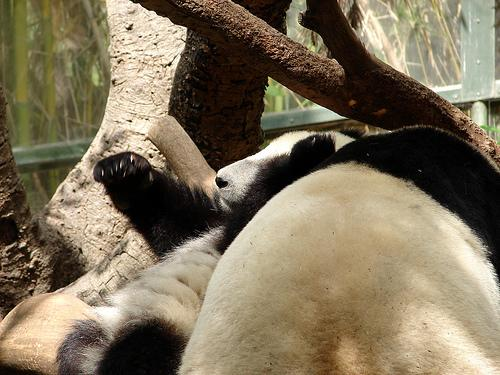panda: (0, 126, 499, 374)
